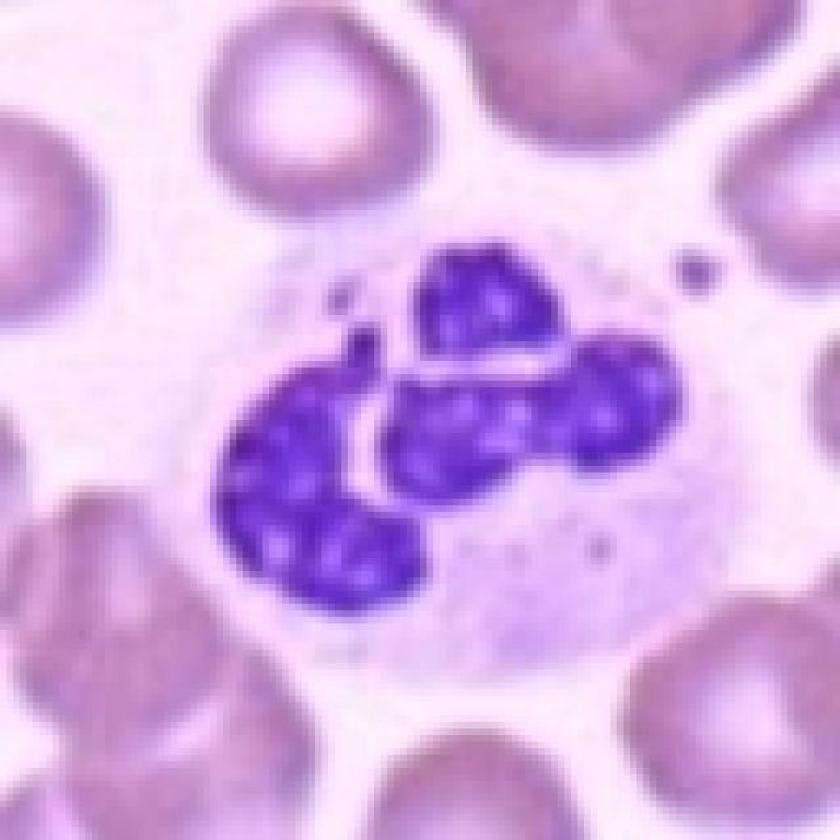neutrophil: (131, 149, 689, 693)
